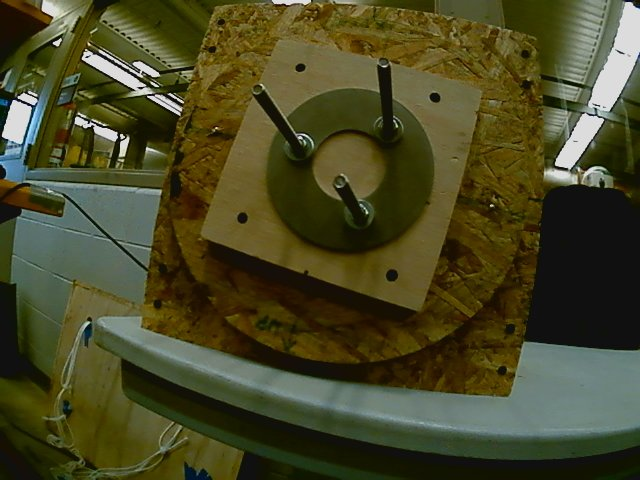bolt: (330, 172, 349, 190), (374, 56, 392, 71), (250, 83, 264, 96)
